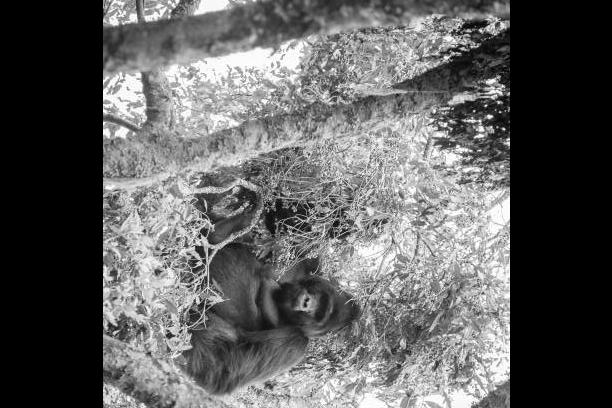goriile_montagne: (176, 197, 368, 391)
